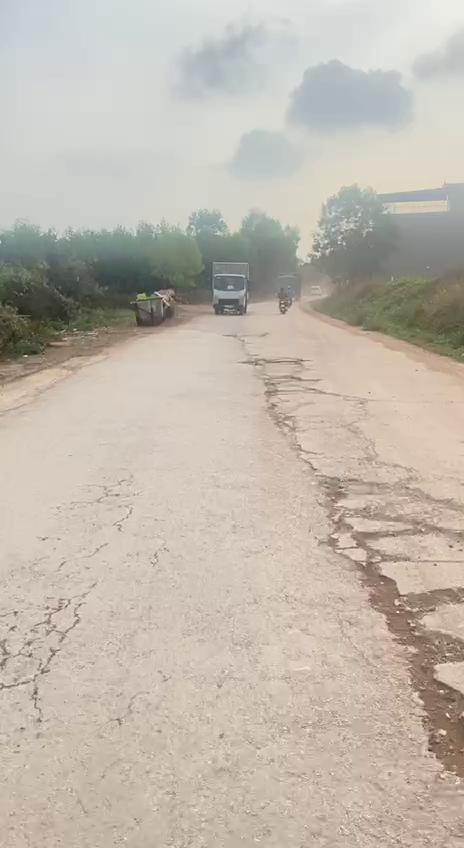pothole: (313, 464, 464, 778)
